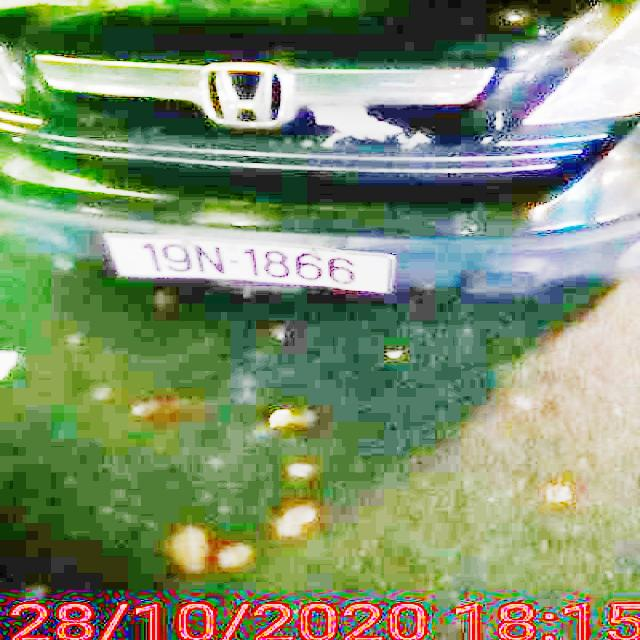license_plate: (107, 237, 396, 292)
